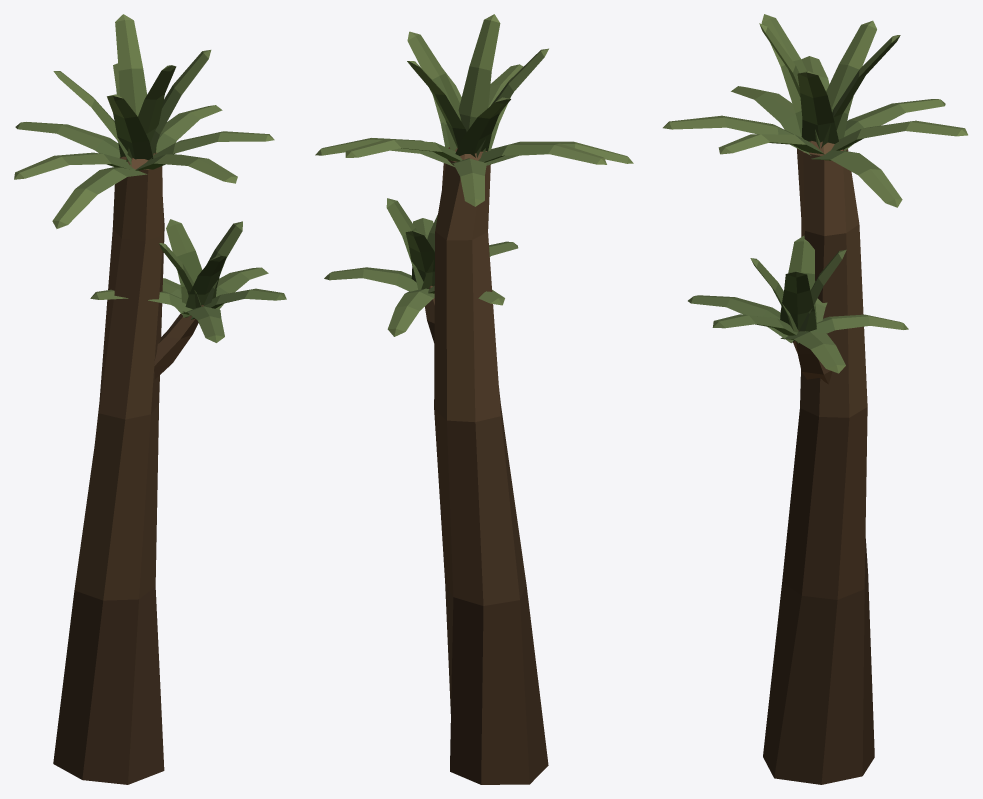
Rendered from Yucca_Bush.glb.
3 renders of one model, left to right at view 1: azimuth 30°, elevation 25°; view 2: azimuth 150°, elevation 25°; view 3: azimuth 270°, elevation 25°, orthographic. The views are drawn at different scales.
Parts seen in each view (by area): view 1: Yucca_Bush; view 2: Yucca_Bush; view 3: Yucca_Bush.
Part boxes in pixels (x1,y1,x2,y2): Yucca_Bush: (14,14,286,784); Yucca_Bush: (315,14,633,784); Yucca_Bush: (663,14,967,784).
Size of the model in its own units: 1.92 by 4.9 by 1.8.
